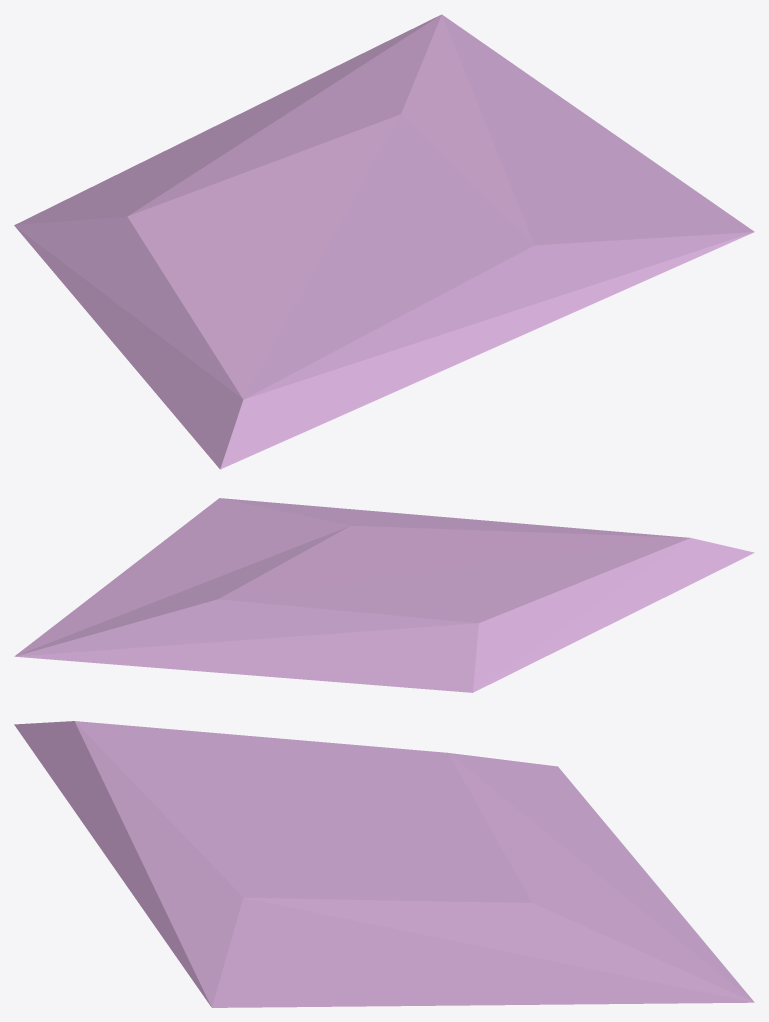
The model's file is MassiveBullet_Puddle_1.dae.
3 views of the same model, one above another, from view 1: azimuth 30°, elevation 25°; view 2: azimuth 150°, elevation 25°; view 3: azimuth 270°, elevation 25° (orthographic). The views are drawn at different scales.
Parts seen in each view (by area): view 1: Cube; view 2: Cube; view 3: Cube.
Boxes of the visible parts, box(x1,y1,x2,y2) form: Cube: box(14, 14, 754, 469); Cube: box(14, 498, 754, 692); Cube: box(14, 721, 754, 1007).
Bounding box in the file's own units: 5.12 × 5.66 × 0.3094.
